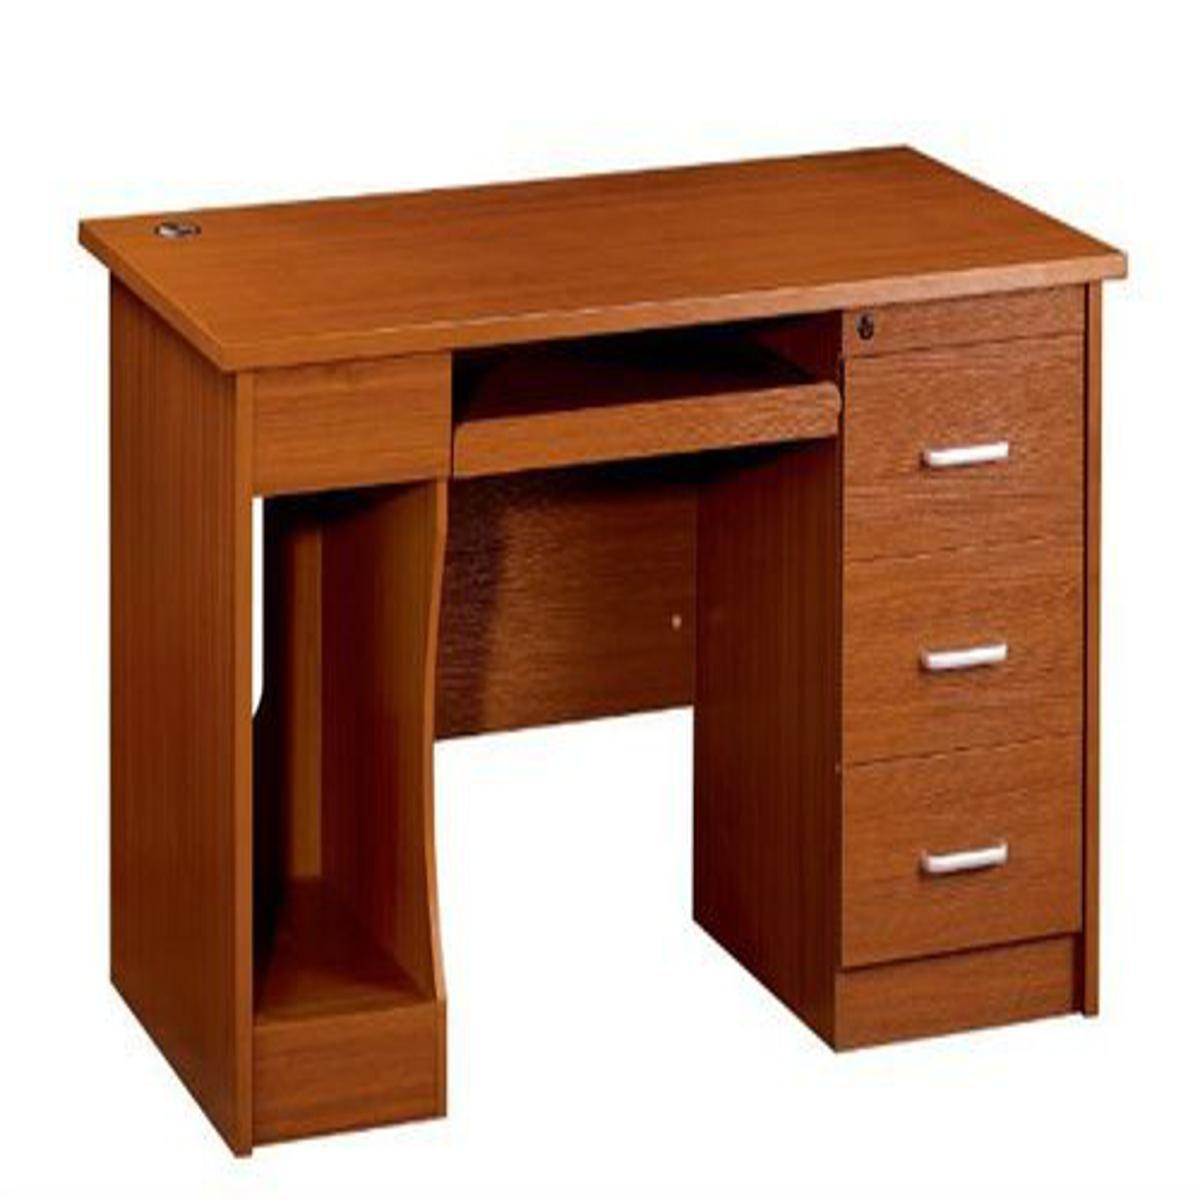Table: (65, 115, 1138, 1170)
